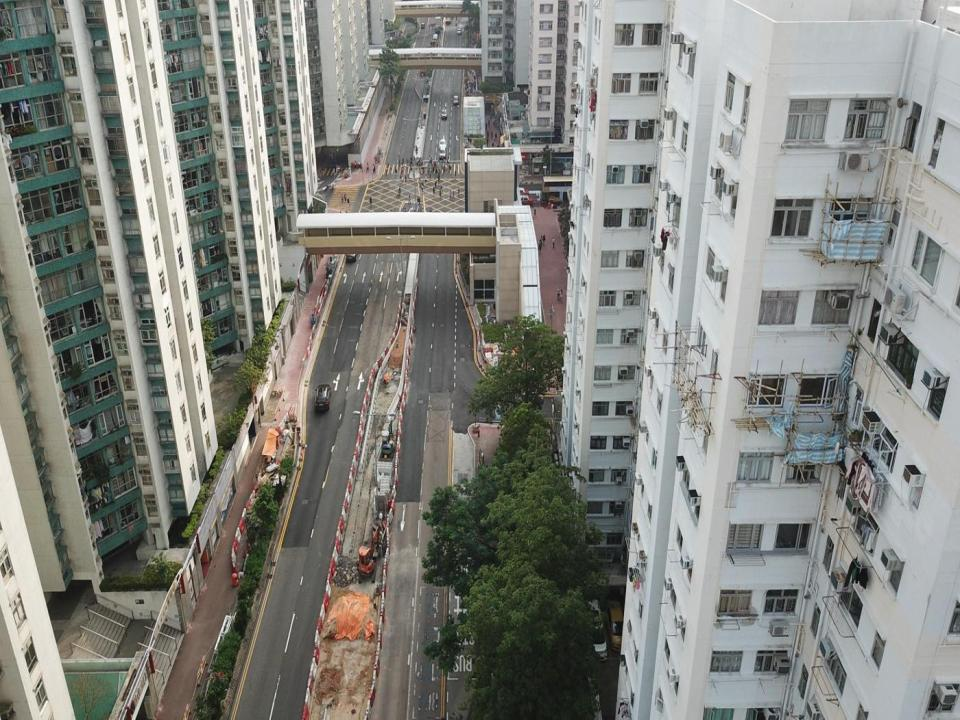bus: (541, 176, 586, 204)
car: (314, 383, 331, 413), (345, 240, 356, 265), (514, 194, 534, 204), (511, 187, 529, 196), (439, 139, 446, 152), (440, 145, 446, 158), (441, 107, 447, 119), (452, 93, 458, 104), (421, 22, 425, 29), (456, 27, 460, 34)
truck: (424, 43, 433, 61), (420, 58, 427, 76), (432, 31, 438, 46), (446, 14, 451, 26), (435, 23, 440, 35)
